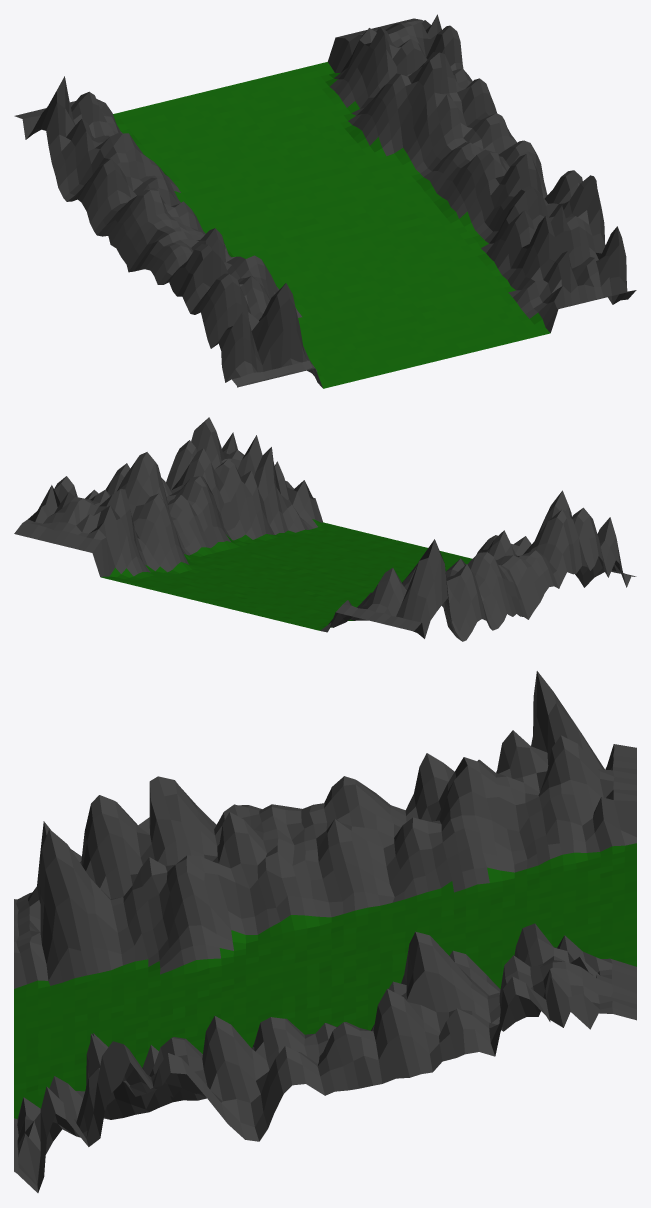
Rendered from HillPartafbx.fbx.
3 views of the same model, one above another, from view 1: azimuth 30°, elevation 25°; view 2: azimuth 150°, elevation 25°; view 3: azimuth 270°, elevation 25° (orthographic). The views are drawn at different scales.
Parts seen in each view (by area): view 1: HillPart1; view 2: HillPart1; view 3: HillPart1.
Boxes of the visible parts, x1,y1,x2,y2 form: HillPart1: (14, 14, 636, 388); HillPart1: (14, 417, 636, 641); HillPart1: (14, 671, 636, 1192).
Size of the model in its own units: 15106 by 6930 by 14489.
